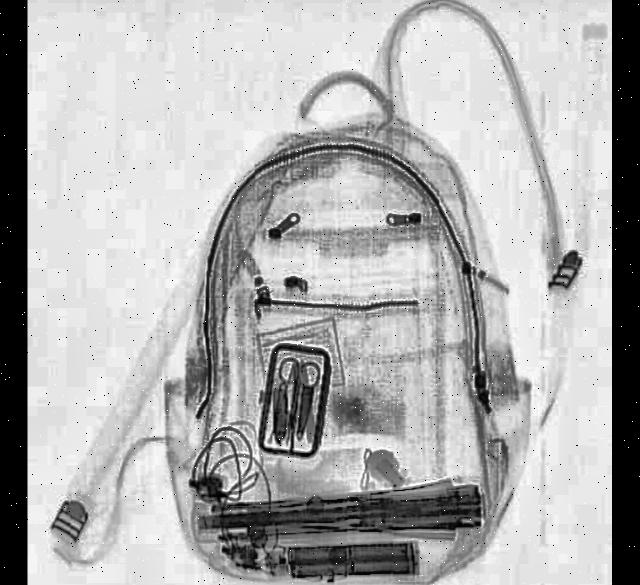Scissors: (270, 354, 319, 431)
